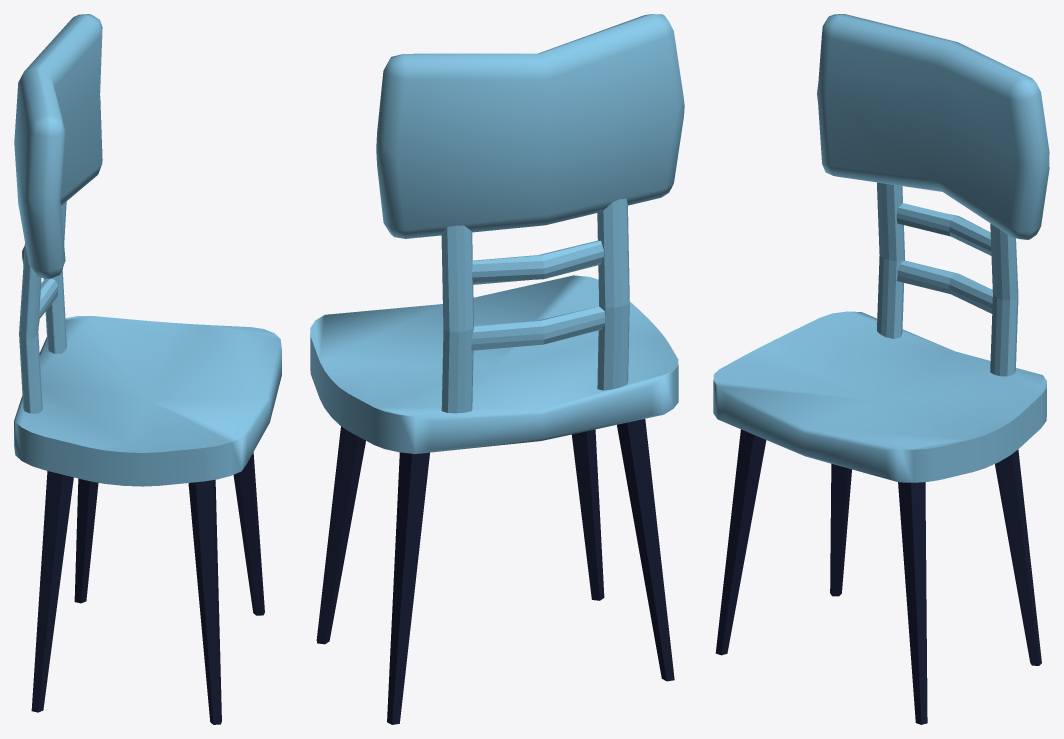
Rendered from sandalyeYedek.fbx.
The picture shows the model from 3 angles, left to right: view 1: azimuth 30°, elevation 25°; view 2: azimuth 150°, elevation 25°; view 3: azimuth 270°, elevation 25°; orthographic projection. The views are drawn at different scales.
Parts seen in each view (by area): view 1: sandalye; view 2: sandalye; view 3: sandalye.
Part boxes in pixels (<box>): sandalye: <box>14,14,281,724</box>; sandalye: <box>310,14,684,724</box>; sandalye: <box>713,14,1049,724</box>.
Size of the model in its own units: 61.82 by 122 by 63.4.
